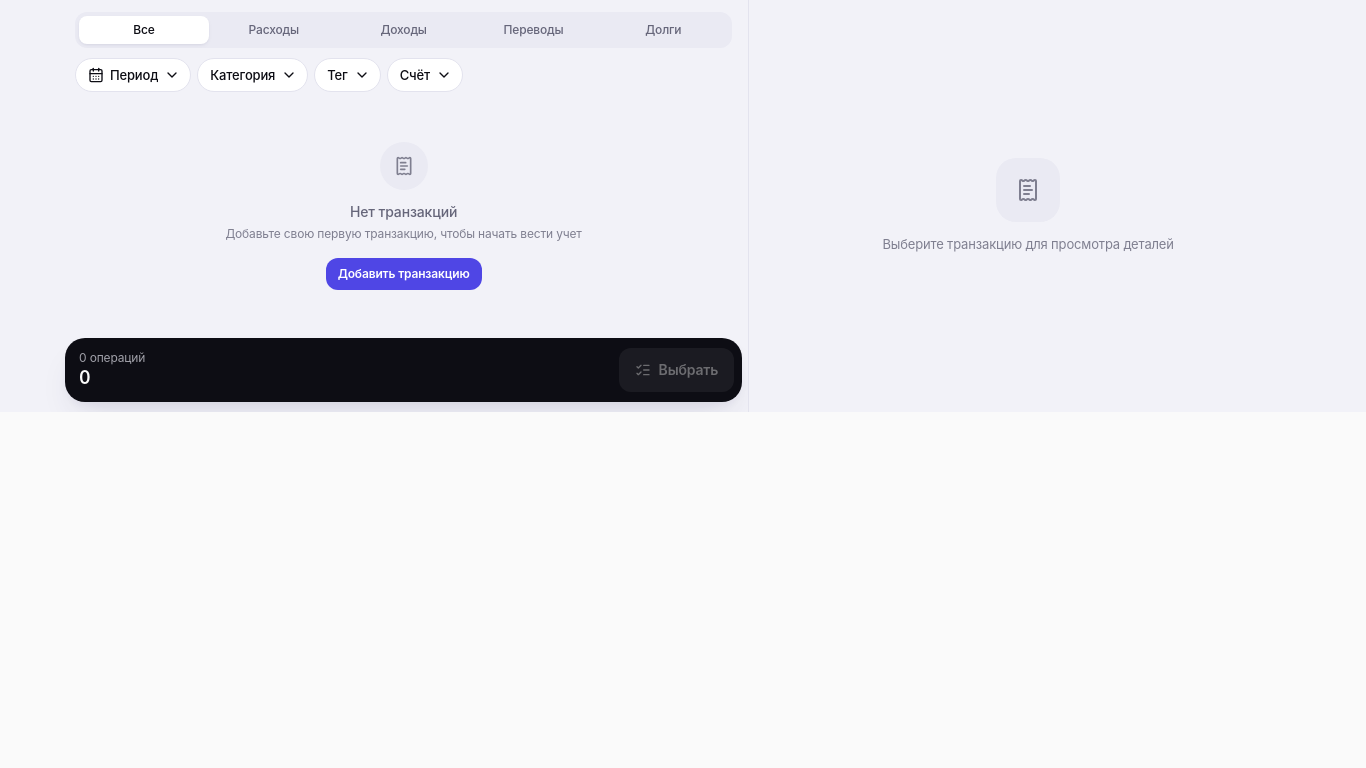
Test: HistoryPage › facet chips › categories › tapping a selected option unselects it
This screenshot has width=1366, height=768.
Step 1. Click the button with test id "facet-chip-category" → x=253, y=75, box left=198, top=59, right=307, bottom=91
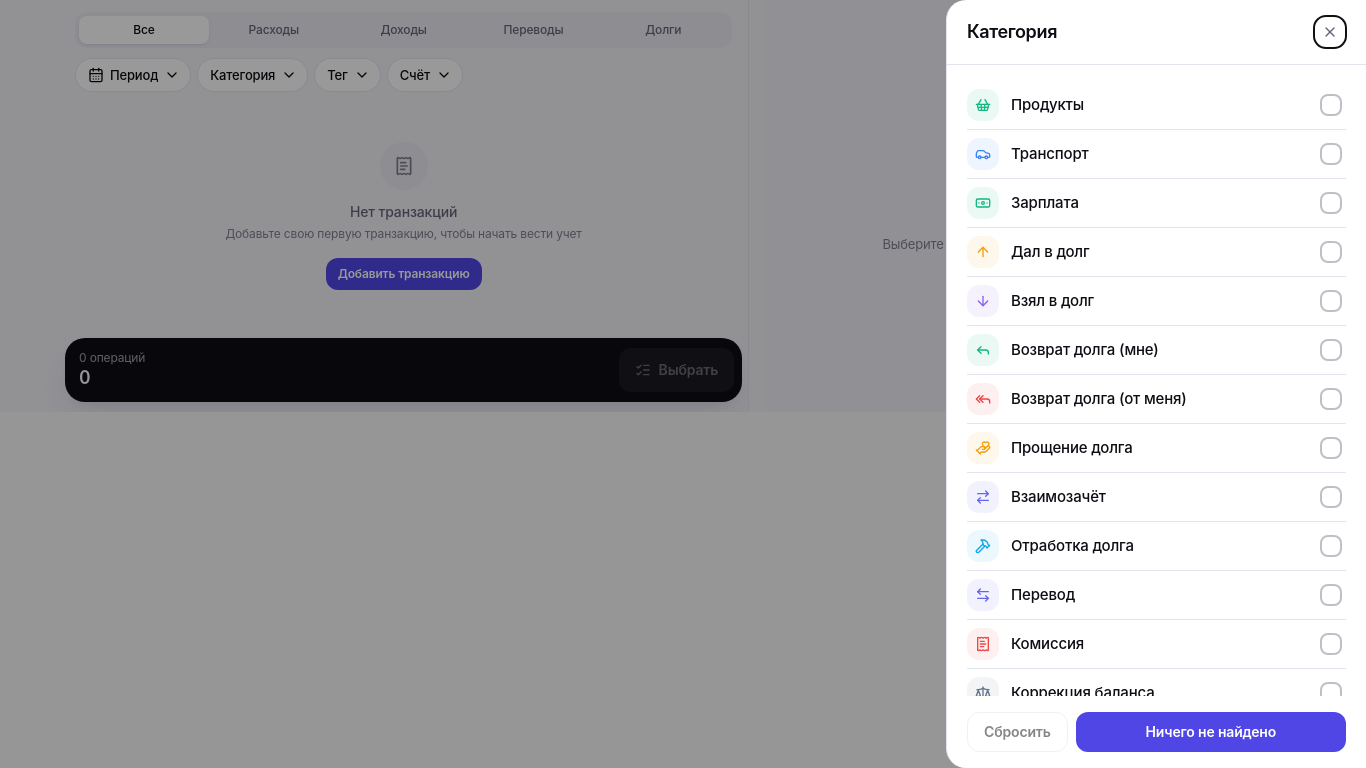
Step 2. Click the checkbox labelled "Продукты" → x=983, y=105, box left=967, top=81, right=1346, bottom=130
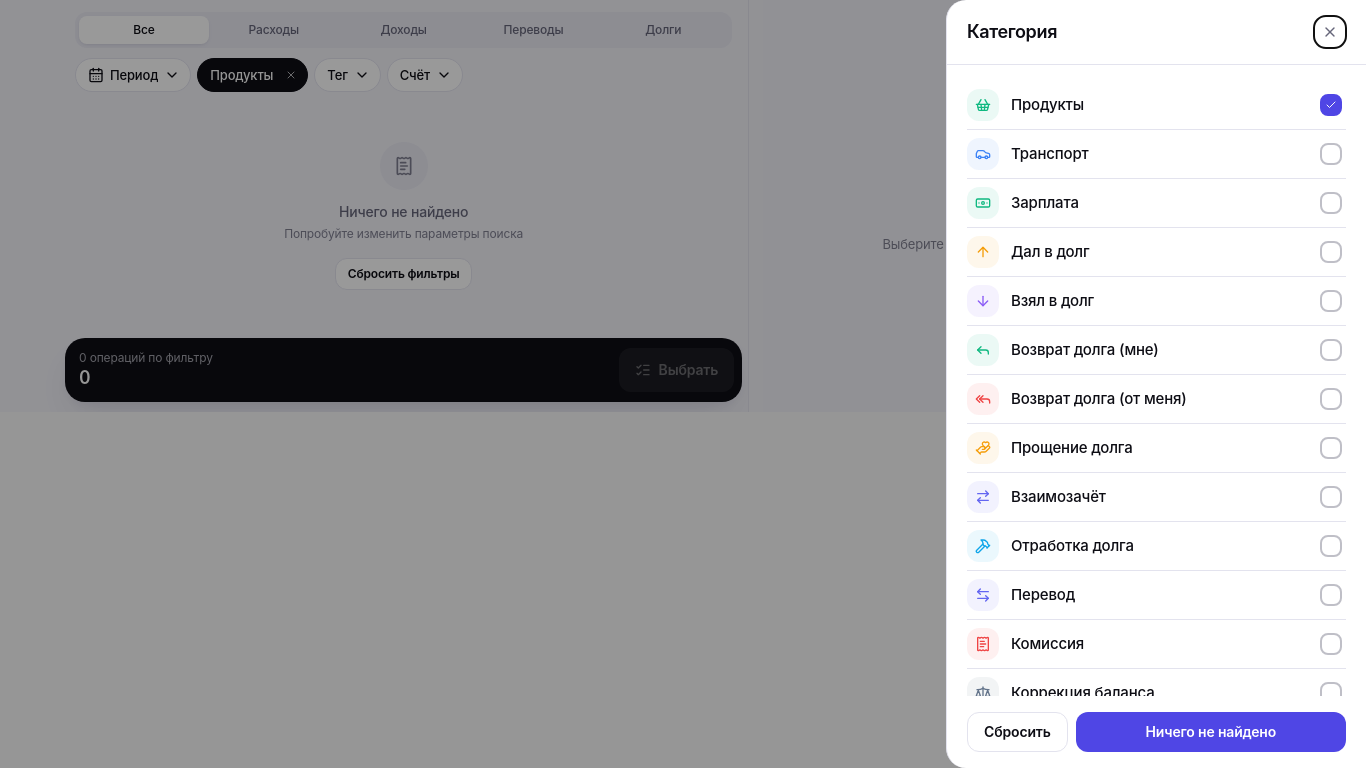
Step 3. Click the checkbox labelled "Транспорт" → x=983, y=154, box left=967, top=130, right=1346, bottom=179
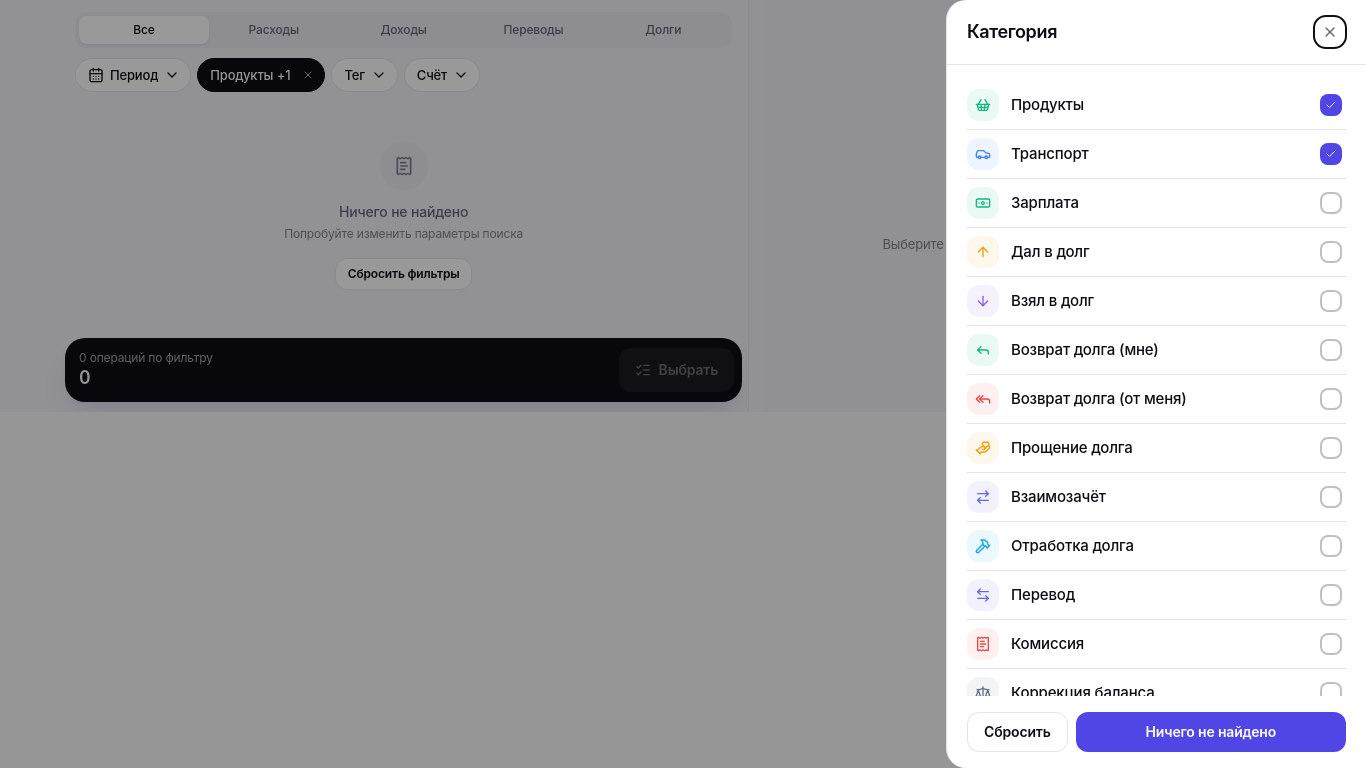
Step 4. Click the checkbox labelled "Продукты" → x=983, y=105, box left=967, top=81, right=1346, bottom=130
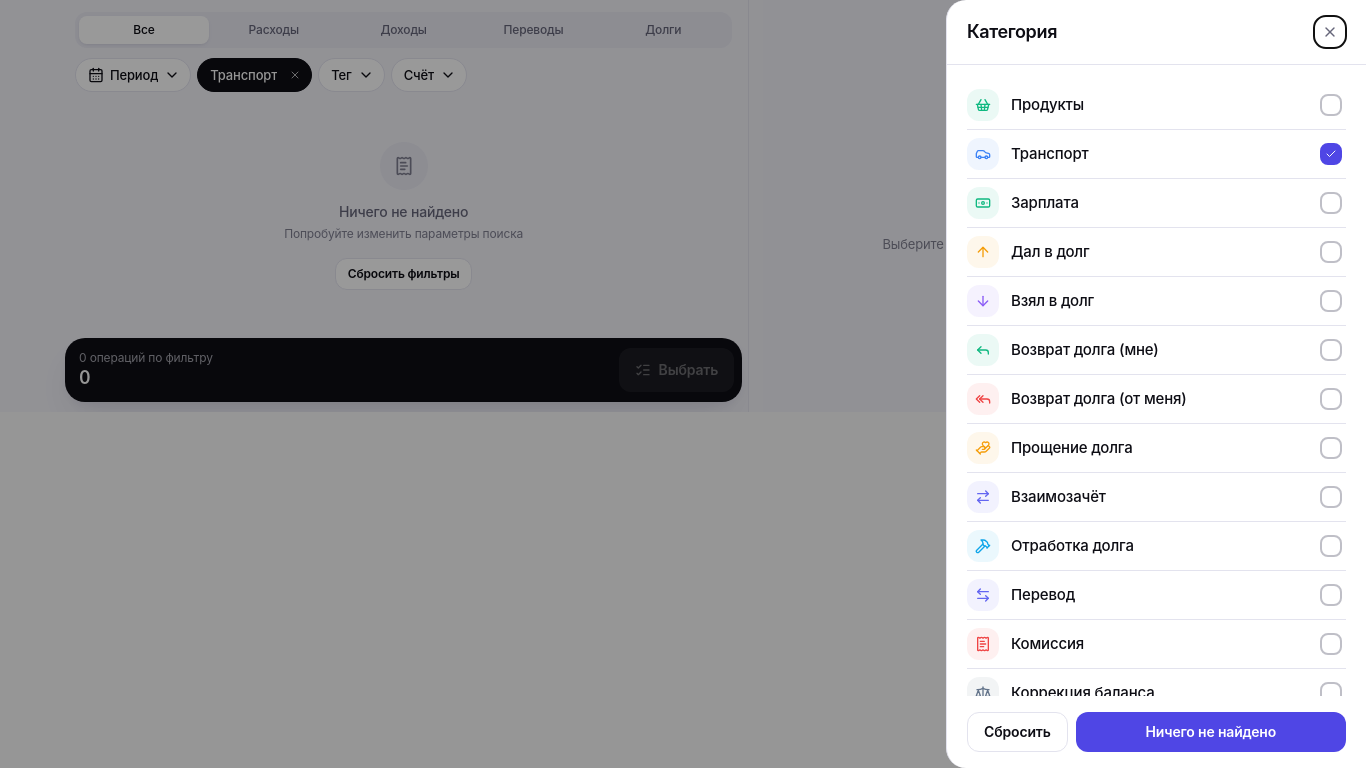
Result: the element with test id "history-facet-rail" shows "Транспорт" at left=198, top=59, right=281, bottom=91
Result: the button with test id "history-facet-rail" no longer shows "+1"
